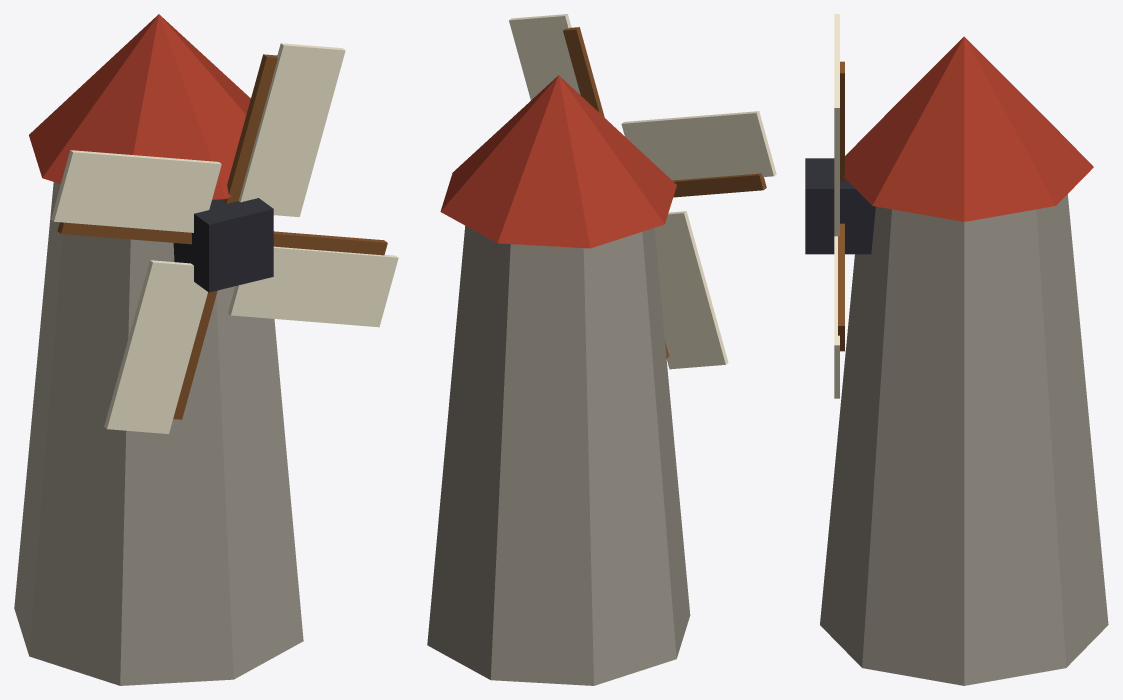
The model's file is sky_sky_windmill.glb.
The picture shows the model from 3 angles, left to right: view 1: azimuth 30°, elevation 25°; view 2: azimuth 150°, elevation 25°; view 3: azimuth 270°, elevation 25°; orthographic projection. The views are drawn at different scales.
Visible parts, largest first — view 1: sky_windmill; view 2: sky_windmill; view 3: sky_windmill.
Part boxes in pixels (box(x1,y1,x2,y2)): sky_windmill: box(14, 14, 398, 685); sky_windmill: box(427, 14, 776, 685); sky_windmill: box(805, 14, 1108, 685).
Size of the model in its own units: 2.66 by 4.53 by 2.1.
